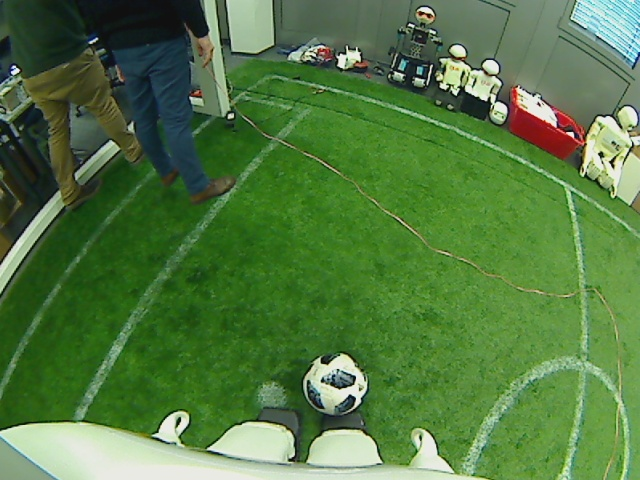ball: (299, 351, 369, 417)
